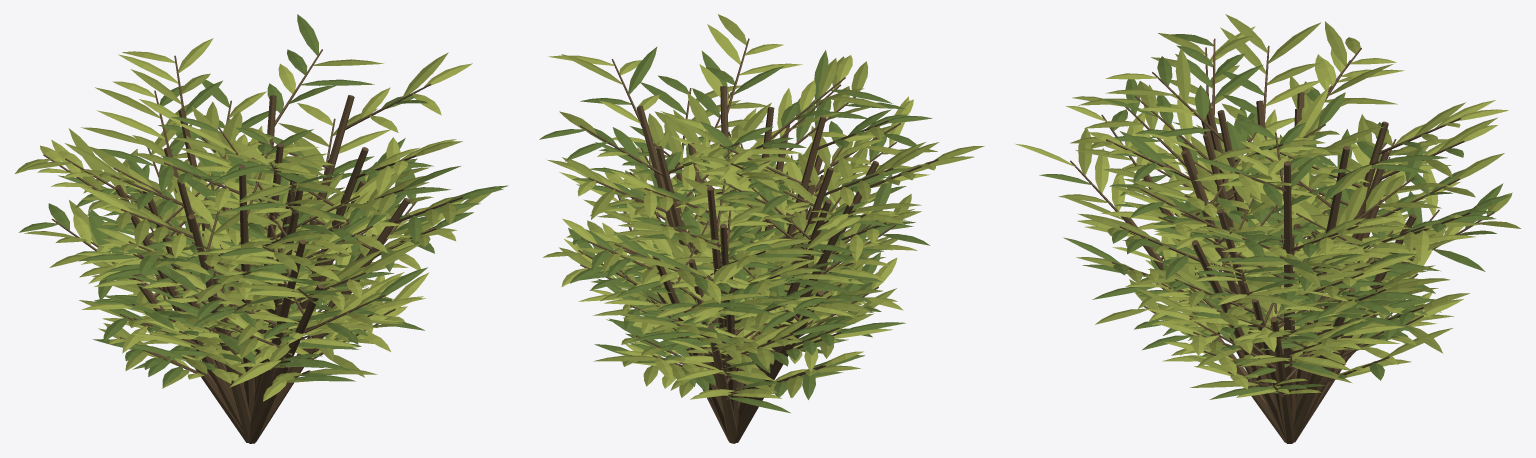
The model's file is bush_round.glb.
3 renders of one model, left to right at view 1: azimuth 30°, elevation 25°; view 2: azimuth 150°, elevation 25°; view 3: azimuth 270°, elevation 25°, orthographic. The views are drawn at different scales.
Parts seen in each view (by area): view 1: bush_round; view 2: bush_round; view 3: bush_round.
Part boxes in pixels (x1=…): bush_round: x1=15, y1=14, x2=508, y2=443; bush_round: x1=539, y1=14, x2=984, y2=443; bush_round: x1=1015, y1=14, x2=1520, y2=443.
Bounding box in the file's own units: 1.73 × 1.34 × 1.73.
